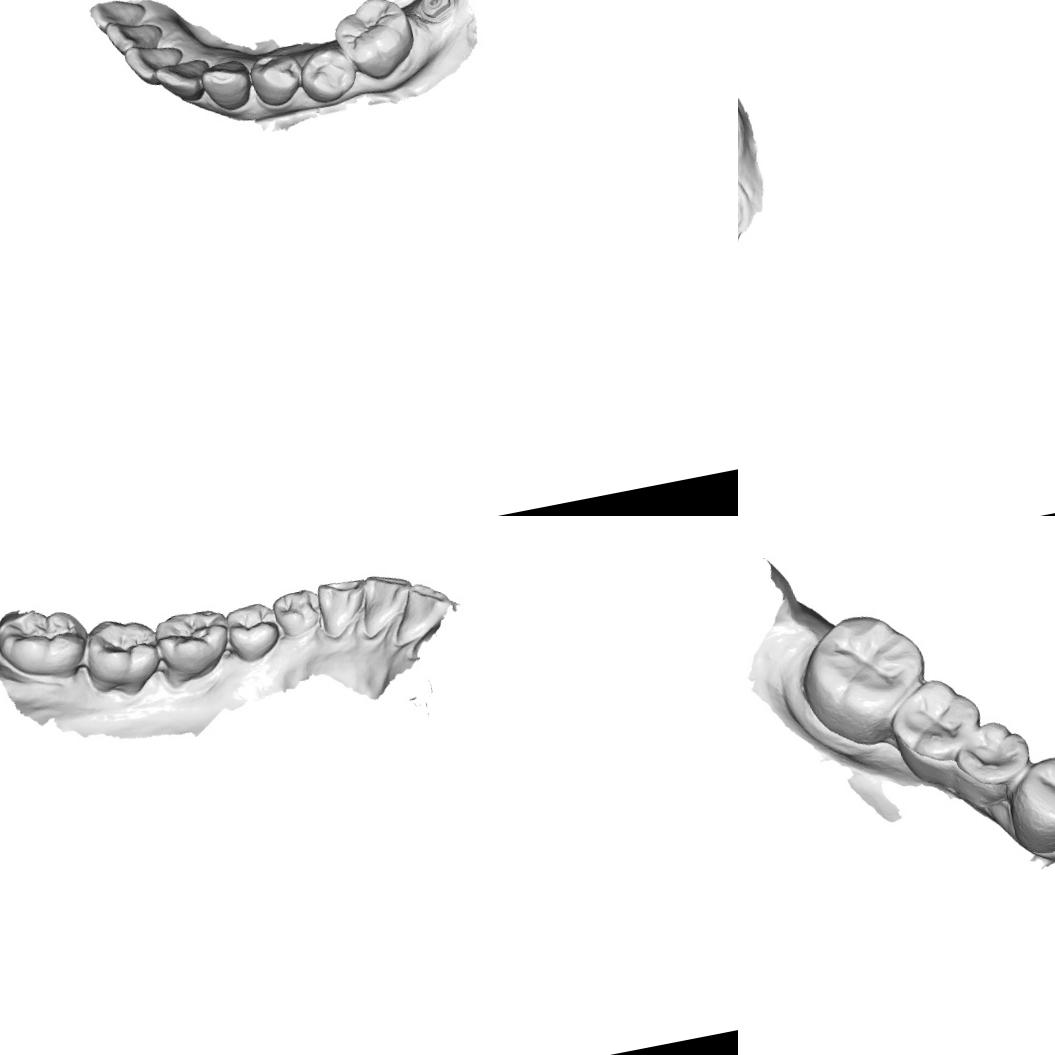canine: (310, 570, 374, 645), (197, 56, 256, 115)
implant: (411, 0, 459, 27)
incisor: (348, 565, 419, 642), (382, 575, 454, 646), (122, 36, 189, 90), (152, 55, 215, 108), (102, 10, 167, 59)
molar: (791, 602, 936, 746), (884, 671, 990, 780), (0, 591, 92, 689), (81, 605, 167, 705), (326, 0, 420, 87), (145, 602, 234, 685)
premolar: (945, 713, 1040, 808), (1002, 749, 1055, 855), (219, 594, 283, 666), (293, 40, 360, 108), (246, 47, 308, 111), (266, 582, 324, 642)
